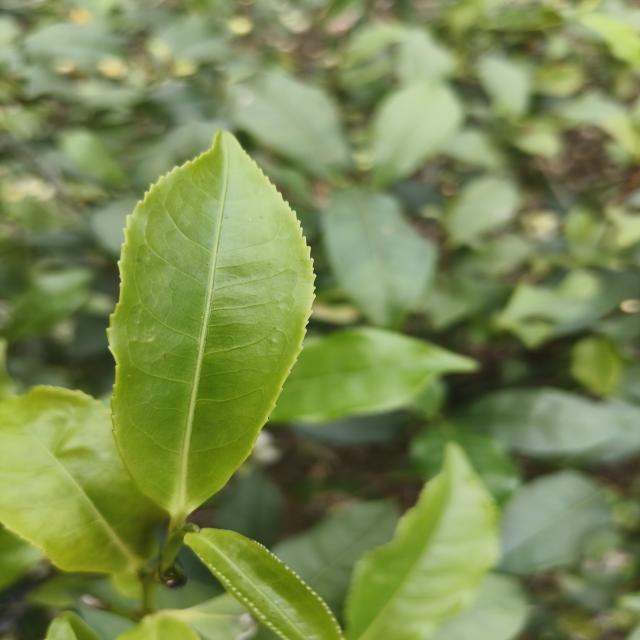Leaf: (108, 131, 314, 521), (0, 386, 166, 573), (345, 444, 498, 640), (270, 327, 477, 424), (184, 528, 344, 640), (321, 189, 437, 328), (272, 500, 399, 620), (228, 69, 351, 179), (500, 471, 611, 575), (467, 388, 609, 456), (371, 81, 462, 186), (8, 267, 92, 340), (215, 467, 283, 548), (447, 177, 520, 245), (570, 336, 623, 396)
